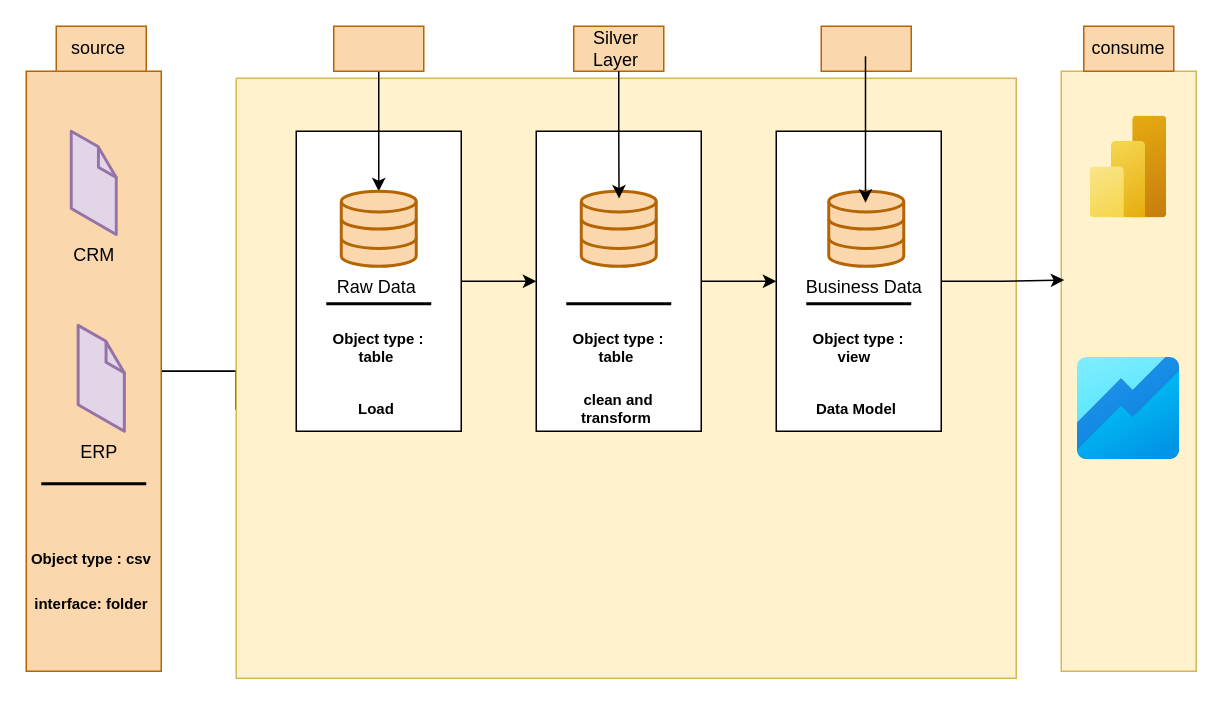
The diagram is 1223 pixels wide and 705 high, and some of its shapes have lost their labels. Here are the shapes that lost their labels. From the top down, the centre of each, then its label:
At (378,48): "Bronze Layer".
At (865,48): "Gold Layer".
At (618,228): "Cleand data".
